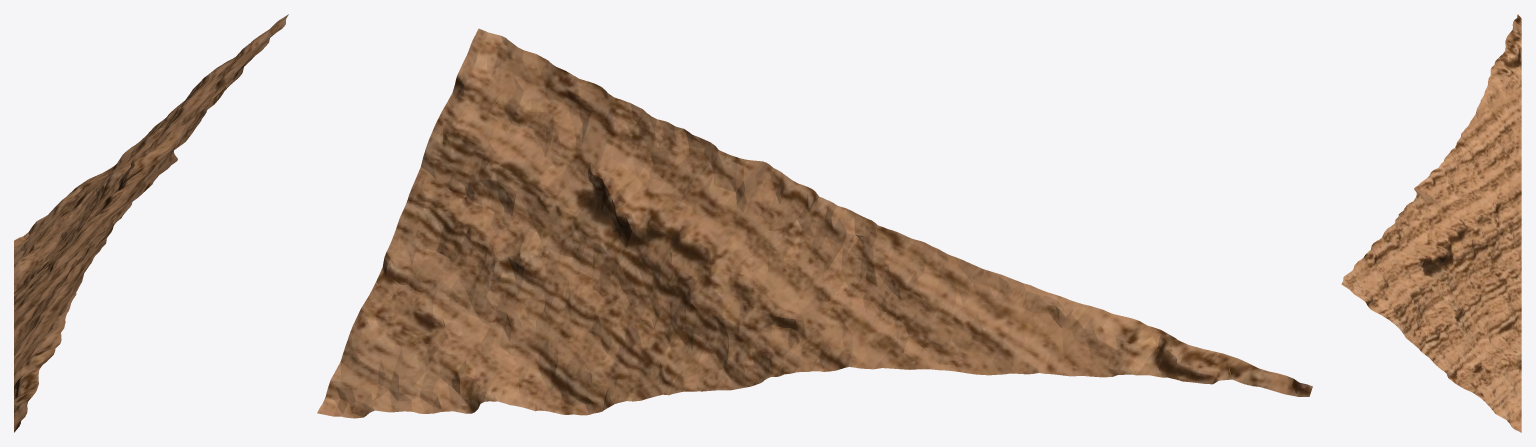
3 views of the same model, side by side, from view 1: azimuth 90°, elevation 25°; view 2: azimuth 150°, elevation 25°; view 3: azimuth 270°, elevation 25° (orthographic). The views are drawn at different scales.
Bounding box in the file's own units: 2.09 × 0.536 × 0.589.
1 material, 1 textured.
